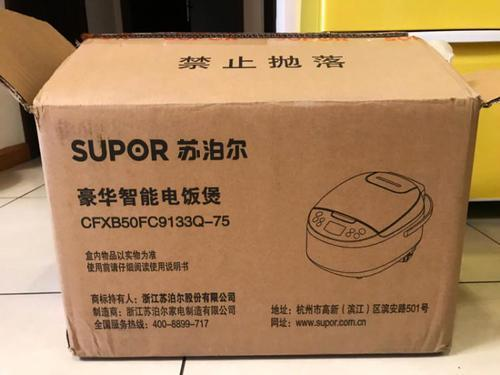cardboard: (33, 34, 480, 358)
